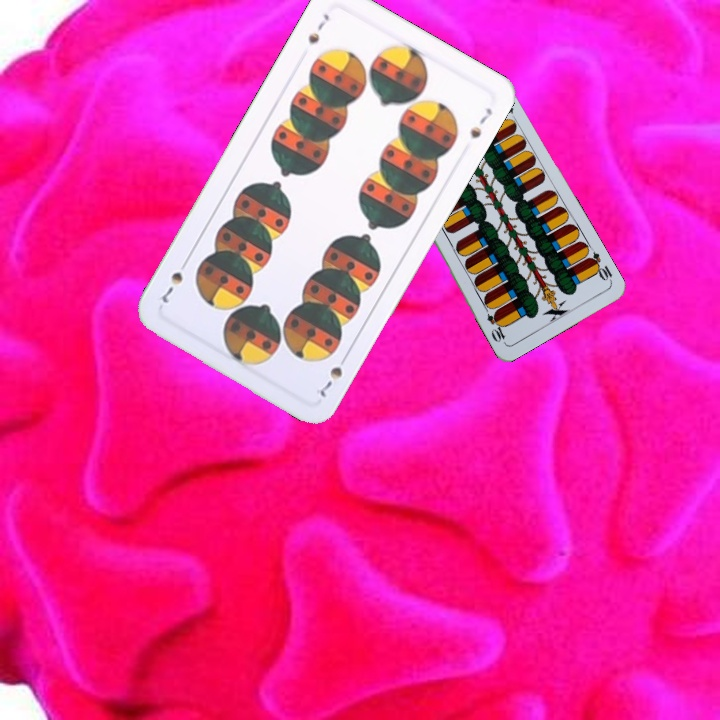E10: (584, 248, 615, 285)
S7: (315, 349, 352, 401), (303, 9, 332, 47)
